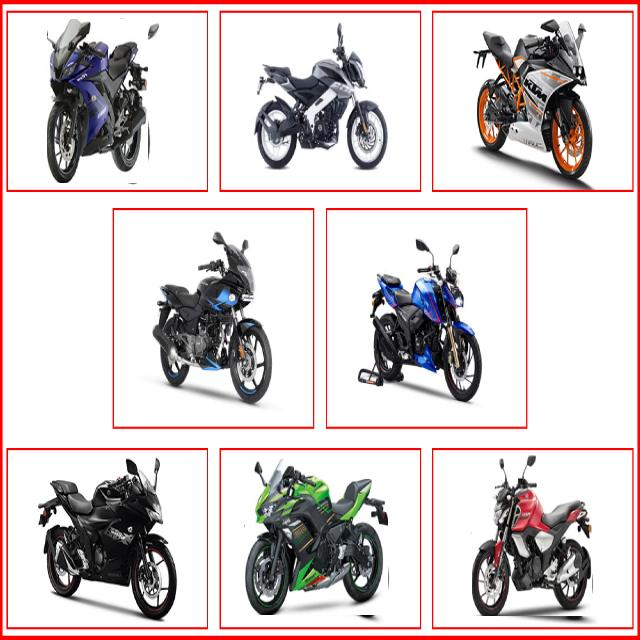motorcycle: (246, 458, 388, 615), (39, 458, 176, 618), (152, 231, 272, 403), (472, 456, 592, 616), (255, 25, 388, 168), (478, 19, 592, 178), (48, 19, 148, 183), (370, 258, 481, 400)
